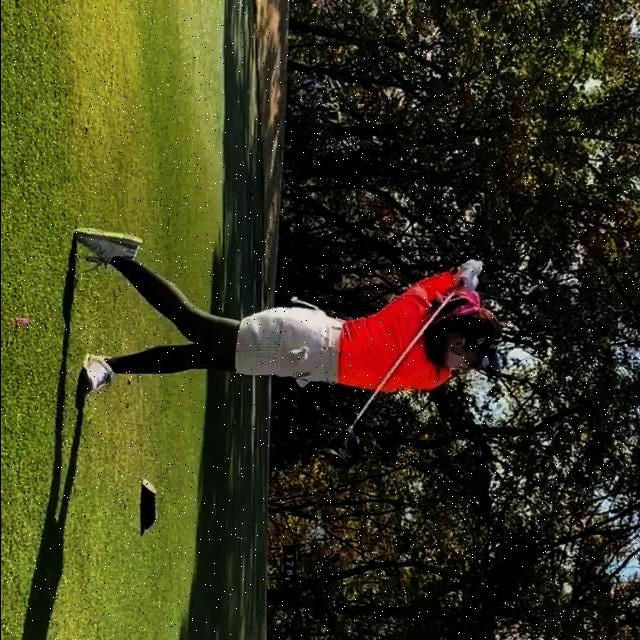ClubHandle: (320, 281, 463, 468)
ClubHead: (320, 430, 360, 469)
